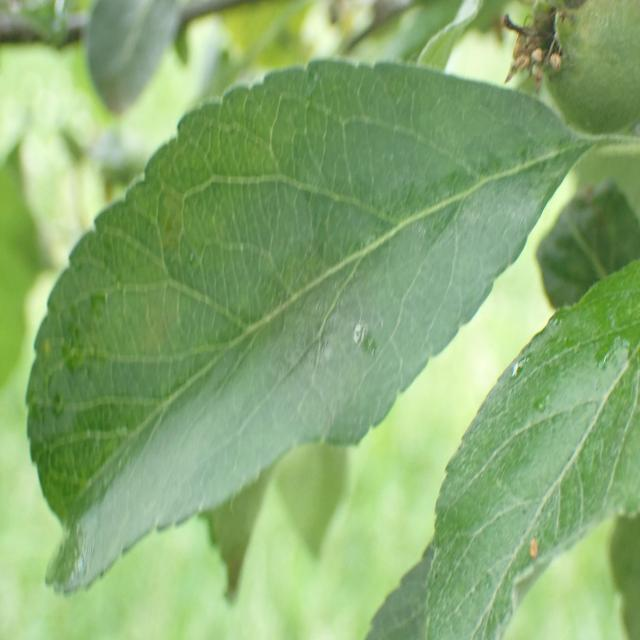scab: (36, 142, 513, 452)
